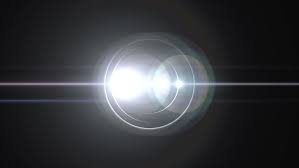flash: (88, 38, 208, 124)
